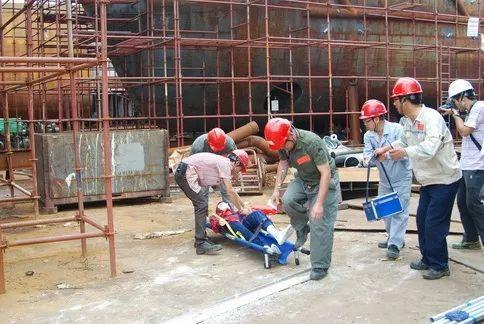Fall-Detected: (204, 194, 307, 269)
